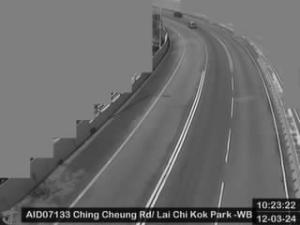vehicle: (188, 21, 196, 29), (174, 12, 184, 18)
